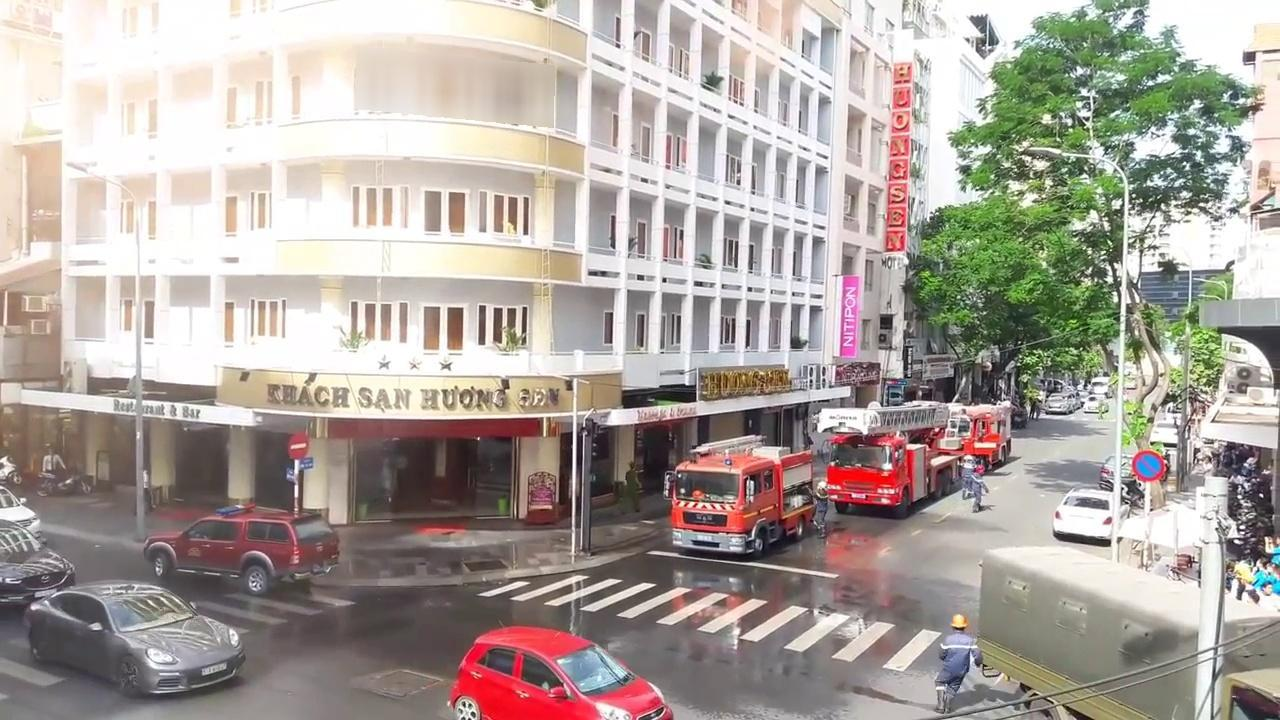xe cuu hoa: (669, 434, 814, 558), (817, 407, 963, 519), (925, 399, 1011, 474)
xe hoi: (21, 577, 243, 700), (447, 622, 675, 719), (147, 501, 340, 590), (0, 516, 74, 613), (1051, 483, 1128, 546)
xe tai: (974, 544, 1280, 720)
